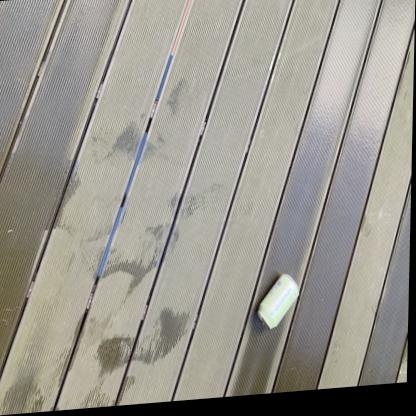trash: (258, 274, 298, 328)
